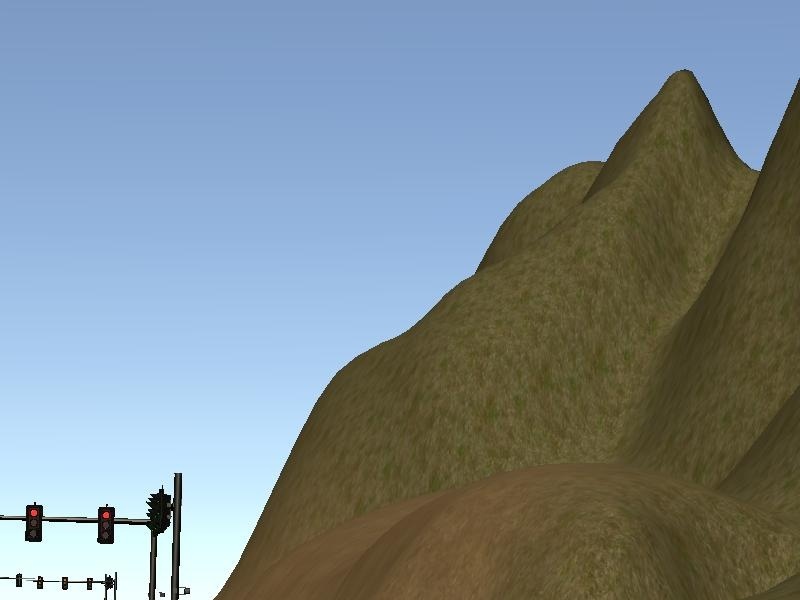red: (93, 502, 121, 550), (21, 497, 46, 544)
